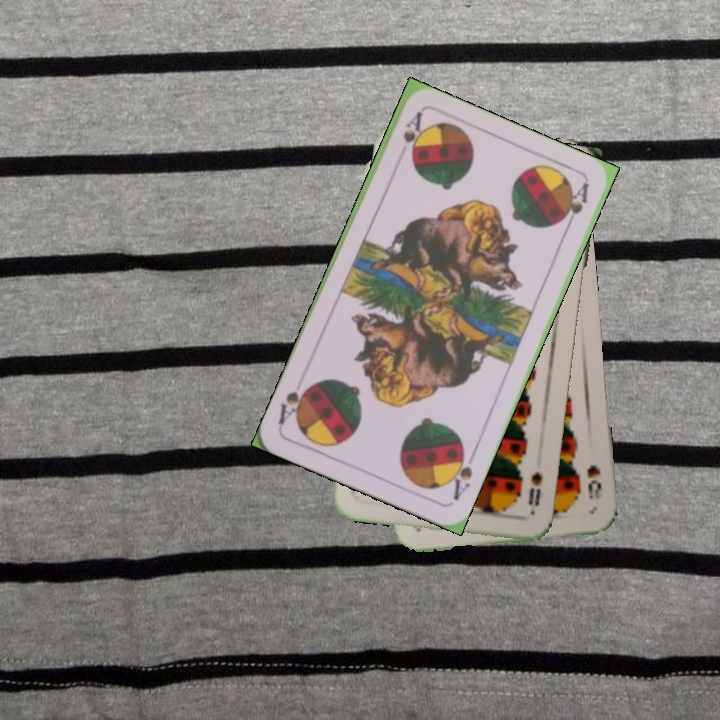S8: (583, 460, 604, 502), (524, 467, 545, 509)
SA: (444, 444, 478, 503), (399, 108, 425, 158)
